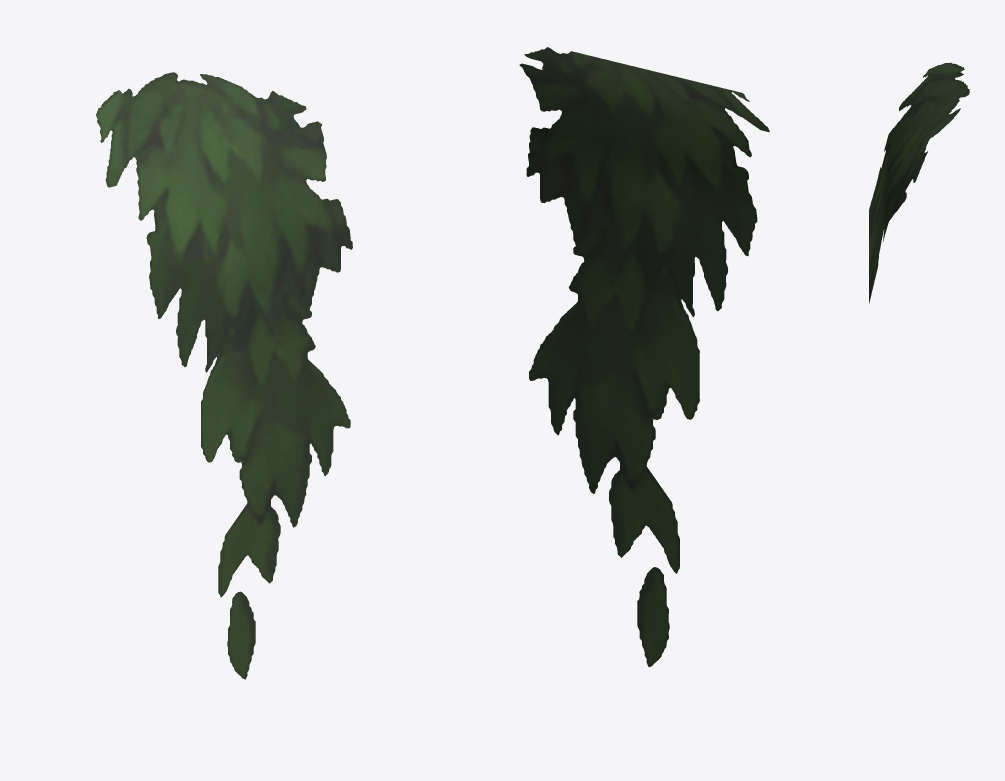
Rendered from yw_newshanlin_chuiqing_002.FBX.
3 views of the same model, side by side, from view 1: azimuth 30°, elevation 25°; view 2: azimuth 150°, elevation 25°; view 3: azimuth 270°, elevation 25° (orthographic). The views are drawn at different scales.
Visible parts, largest first — view 1: yw_newshanlin_chuiqing_002; view 2: yw_newshanlin_chuiqing_002; view 3: yw_newshanlin_chuiqing_002.
Boxes of the visible parts, bbox=[...] form: yw_newshanlin_chuiqing_002: bbox=[96, 72, 352, 679]; yw_newshanlin_chuiqing_002: bbox=[519, 47, 769, 666]; yw_newshanlin_chuiqing_002: bbox=[869, 62, 969, 303].
Bounding box in the file's own units: 30.26 × 10.73 × 59.
